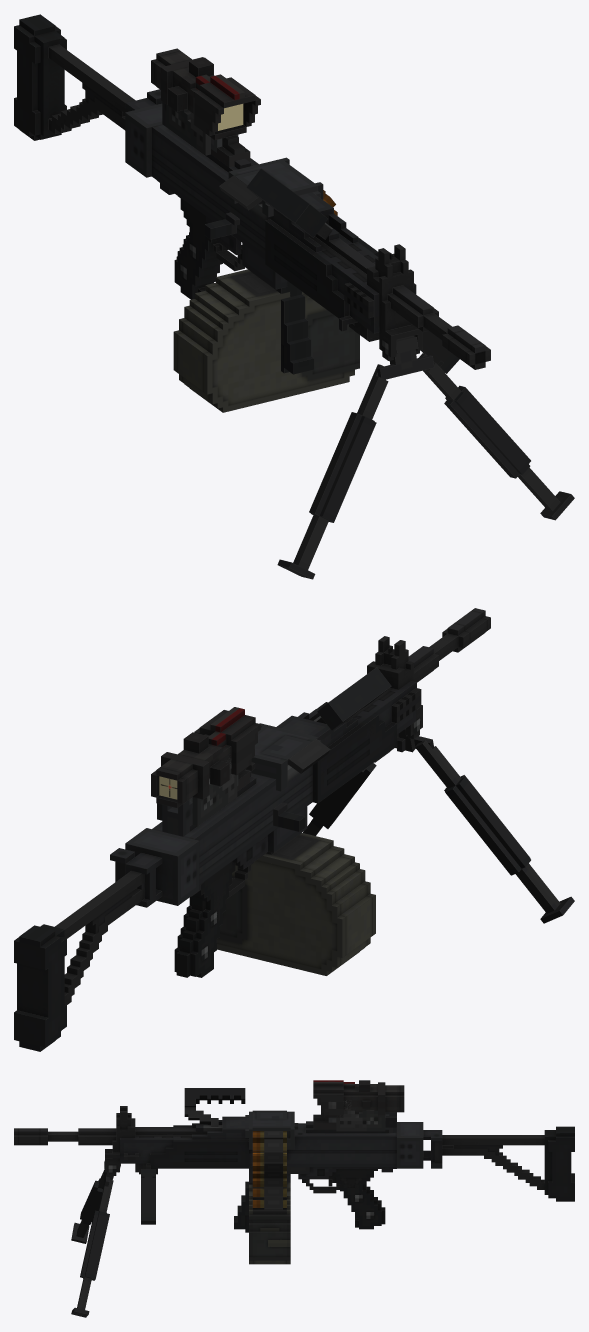
The model's file is RD_NEGEV.glb.
3 renders of one model, top to bottom at view 1: azimuth 30°, elevation 25°; view 2: azimuth 150°, elevation 25°; view 3: azimuth 270°, elevation 25°, orthographic. The views are drawn at different scales.
Parts seen in each view (by area): view 1: NEGEV, NEGEV_CLIP2, SCOPE_ACOG, NEGEV_DIPOD_LEG1, NEGEV_DIPOD_LEG2, NEGEV_CLIP, NEGEV_COVER, NEGEV_DIPOD, SCOPE_EOTECH, NEGEV_GRIP; view 2: NEGEV, NEGEV_CLIP2, SCOPE_ACOG, NEGEV_DIPOD_LEG1, NEGEV_COVER, NEGEV_DIPOD_LEG2, NEGEV_SCOPE, SCOPE_EOTECH, NEGEV_BOLT; view 3: NEGEV, SCOPE_ACOG, NEGEV_CLIP2, NEGEV_DIPOD_LEG2, NEGEV_COVER, NEGEV_DIPOD_LEG1, NEGEV_GRIP, SCOPE_HOLOSUN, SCOPE_EOTECH, NEGEV_CLIP, NEGEV_BULLET07, NEGEV_BULLET08 (+5 smaller).
Part boxes in pixels (x1=…): NEGEV: x1=14, y1=14, x2=490, y2=369; NEGEV_CLIP2: x1=173, y1=269, x2=359, y2=412; SCOPE_ACOG: x1=151, y1=48, x2=260, y2=167; NEGEV_DIPOD_LEG1: x1=277, y1=364, x2=388, y2=579; NEGEV_DIPOD_LEG2: x1=419, y1=353, x2=574, y2=520; NEGEV_CLIP: x1=278, y1=281, x2=314, y2=374; NEGEV_COVER: x1=219, y1=159, x2=320, y2=217; NEGEV_DIPOD: x1=377, y1=336, x2=434, y2=379; SCOPE_EOTECH: x1=166, y1=104, x2=238, y2=152; NEGEV_GRIP: x1=421, y1=331, x2=459, y2=373; NEGEV: x1=14, y1=608, x2=490, y2=1051; NEGEV_CLIP2: x1=217, y1=833, x2=375, y2=975; SCOPE_ACOG: x1=151, y1=707, x2=260, y2=807; NEGEV_DIPOD_LEG1: x1=415, y1=740, x2=574, y2=923; NEGEV_COVER: x1=245, y1=724, x2=330, y2=791; NEGEV_DIPOD_LEG2: x1=303, y1=763, x2=376, y2=835; NEGEV_SCOPE: x1=157, y1=799, x2=192, y2=836; SCOPE_EOTECH: x1=189, y1=774, x2=238, y2=825; NEGEV_BOLT: x1=273, y1=802, x2=305, y2=831; NEGEV: x1=14, y1=1088, x2=574, y2=1229; SCOPE_ACOG: x1=313, y1=1080, x2=404, y2=1129; NEGEV_CLIP2: x1=249, y1=1182, x2=290, y2=1264; NEGEV_DIPOD_LEG2: x1=71, y1=1179, x2=113, y2=1317; NEGEV_COVER: x1=245, y1=1110, x2=298, y2=1137; NEGEV_DIPOD_LEG1: x1=71, y1=1169, x2=104, y2=1243; NEGEV_GRIP: x1=141, y1=1169, x2=155, y2=1224; SCOPE_HOLOSUN: x1=336, y1=1100, x2=366, y2=1131; SCOPE_EOTECH: x1=328, y1=1110, x2=385, y2=1131; NEGEV_CLIP: x1=234, y1=1181, x2=252, y2=1232; NEGEV_BULLET07: x1=252, y1=1151, x2=286, y2=1162; NEGEV_BULLET08: x1=252, y1=1139, x2=286, y2=1151.
Size of the model in its own units: 0.5335 by 0.5705 by 1.46.
7 materials, 7 textured.
